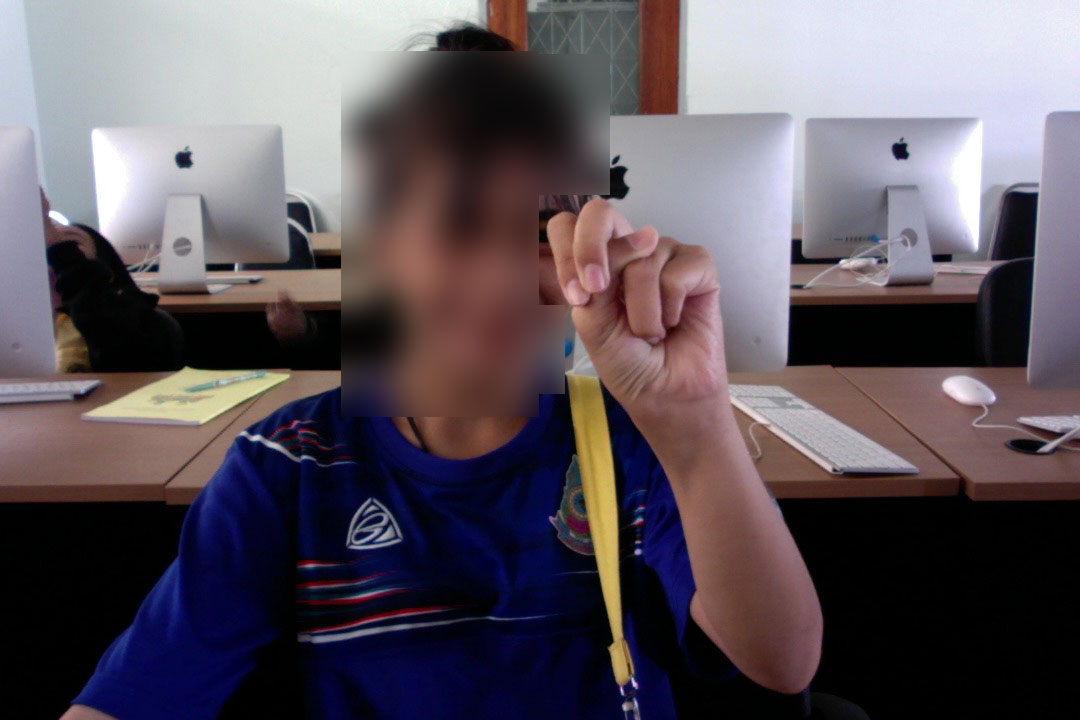nor: (541, 192, 735, 440)
